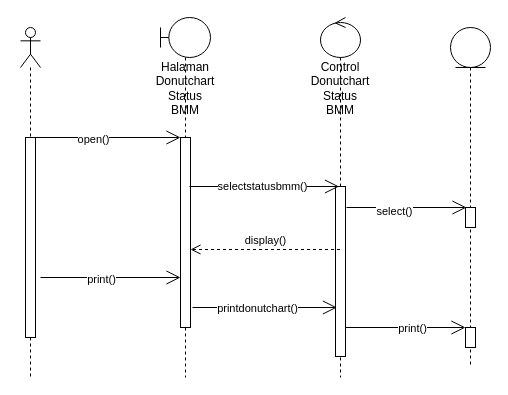
Image size: 508x395. Some labels were removed from this diagram. The shapes that lost their labels are listed below. From the top down, each one's box as (x1, y1, x2, y2) in pixels, then its label:
(20, 26, 40, 378): User
(450, 26, 490, 368): List BMM
